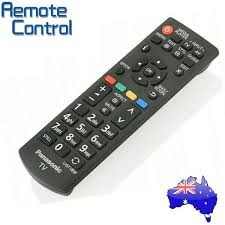remote control: (100, 12, 221, 134)
